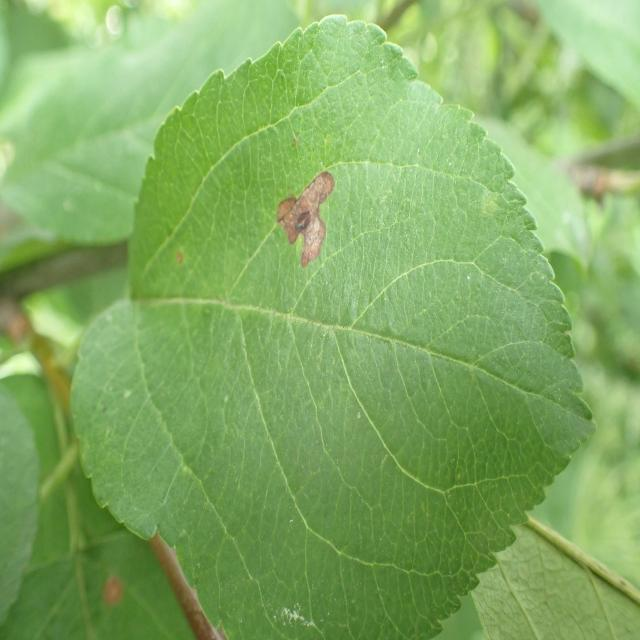Black Rot: (273, 160, 345, 280)
